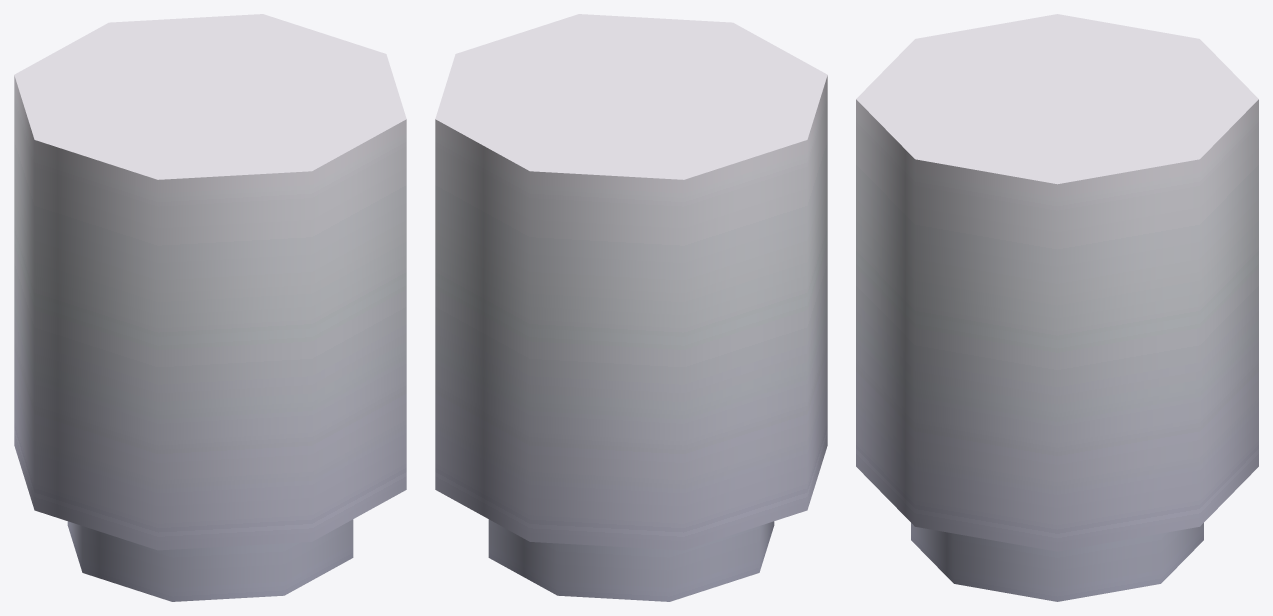
Rendered from none-lq-brick-1x1-round.glb.
3 views of the same model, side by side, from view 1: azimuth 30°, elevation 25°; view 2: azimuth 150°, elevation 25°; view 3: azimuth 270°, elevation 25° (orthographic).
Visible parts, largest first — view 1: none-lq-brick-1x1-round; view 2: none-lq-brick-1x1-round; view 3: none-lq-brick-1x1-round.
Part boxes in pixels (left/top/right/bottom): none-lq-brick-1x1-round: left=14, top=14, right=406, bottom=601; none-lq-brick-1x1-round: left=435, top=14, right=827, bottom=601; none-lq-brick-1x1-round: left=856, top=14, right=1258, bottom=601.
Size of the model in its own units: 0.0795 by 0.096 by 0.0795.
1 material, 1 textured.
